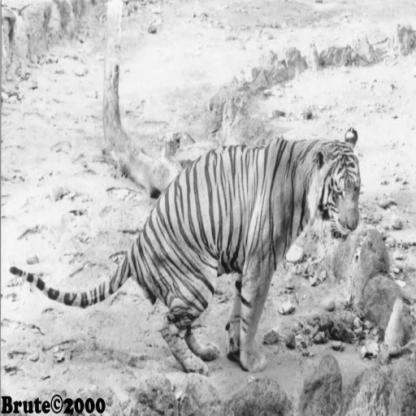Tiger: (5, 94, 415, 405)
